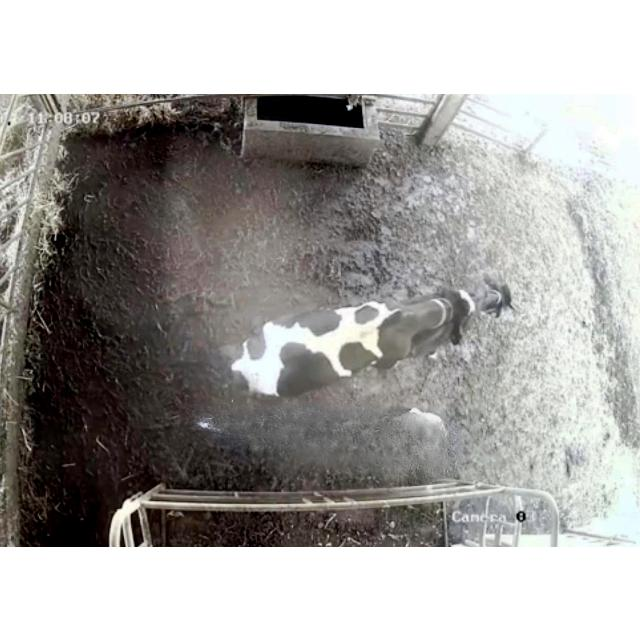ride: (192, 283, 478, 405)
